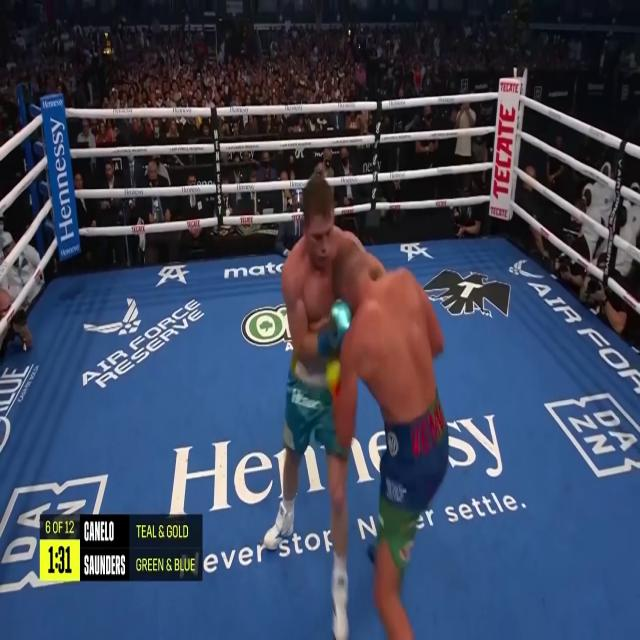boxer_1: (336, 248, 437, 426)
boxer_2: (293, 176, 351, 336)
gloves_1: (326, 362, 342, 405)
gloves_2: (319, 300, 352, 358)
